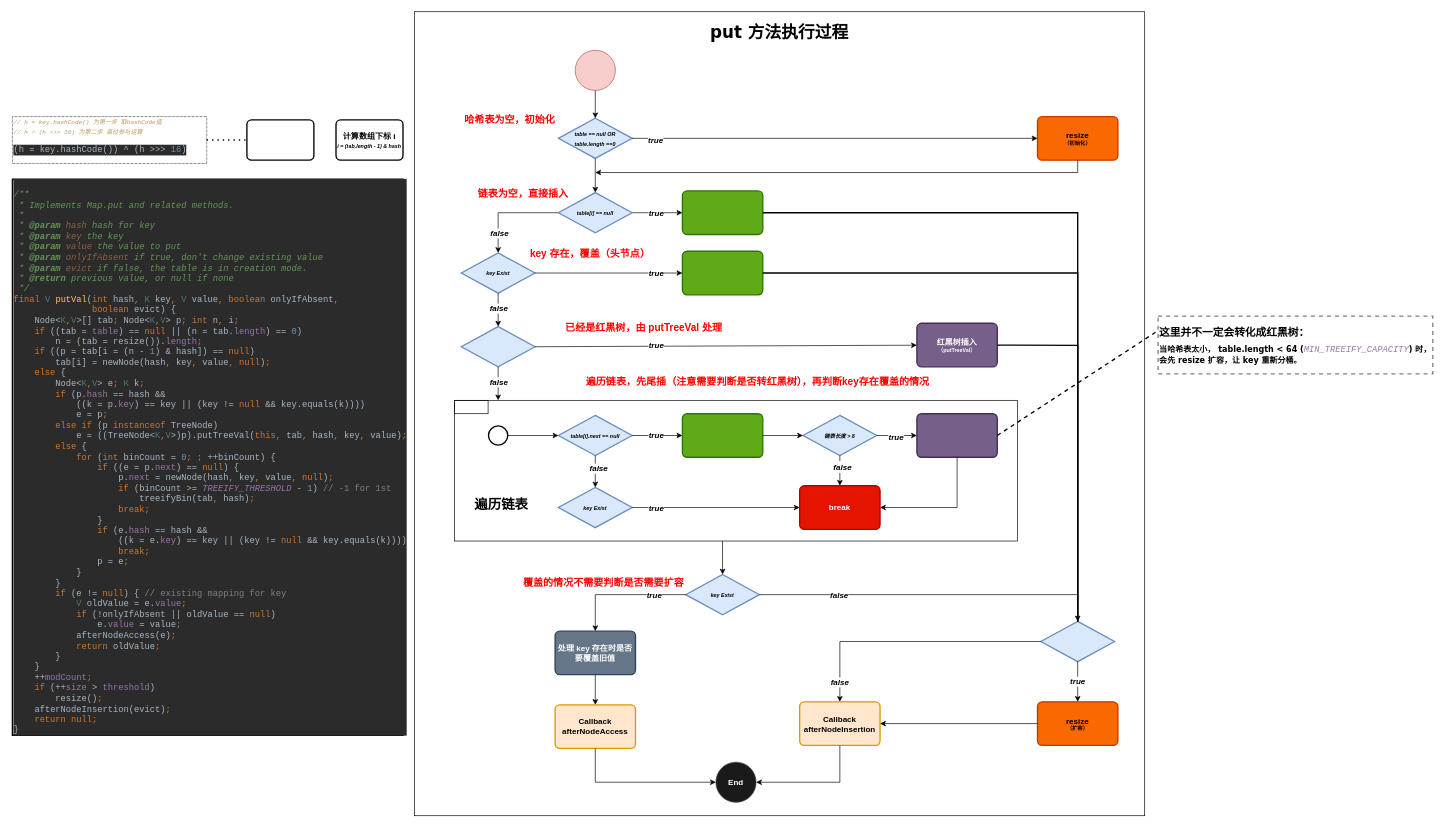
The diagram is 1445 pixels wide and 827 high, and some of its shapes have lost their labels. The shapes that lost their labels are listed below. From the top down, each one's centre as x and y in pixels, then its label:
the point at 595,70: Start
the point at 280,139: 计算 key Hash
the point at 722,212: 直接插入 newNode
the point at 722,272: 直接覆盖
the point at 497,346: table[i] instanceof TreeNode
the point at 471,407: Loop
the point at 722,435: 尾插 tab[i].next = newNode
the point at 957,435: 转换红黑树 （treeifyBin）
the point at 1077,641: ++ siize > threshold
